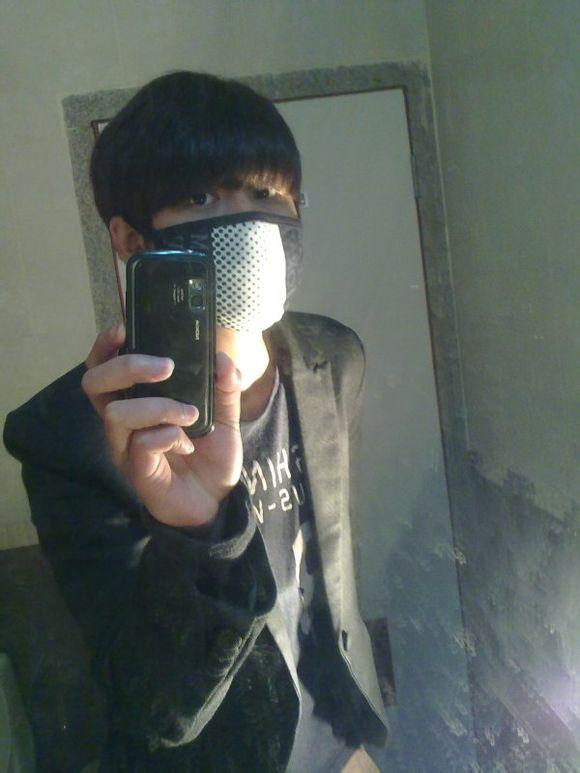OK: (143, 163, 302, 329)
